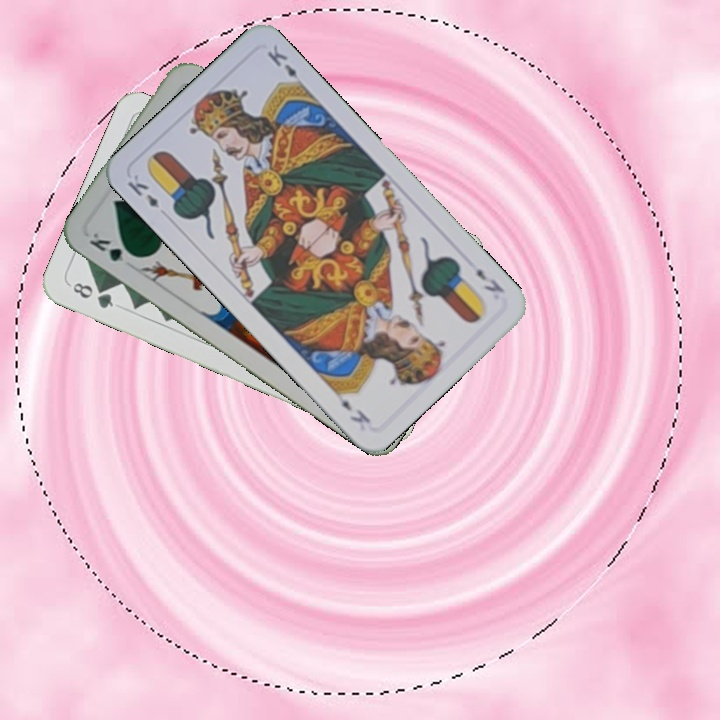EK: (123, 170, 162, 211), (471, 264, 507, 296)
G8: (68, 278, 116, 311)
GK: (85, 228, 140, 265)
